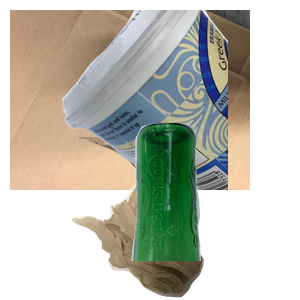cardboard: (10, 10, 250, 190)
glass: (129, 120, 300, 300)
plastic: (60, 10, 300, 190)
trash: (66, 137, 263, 300)
